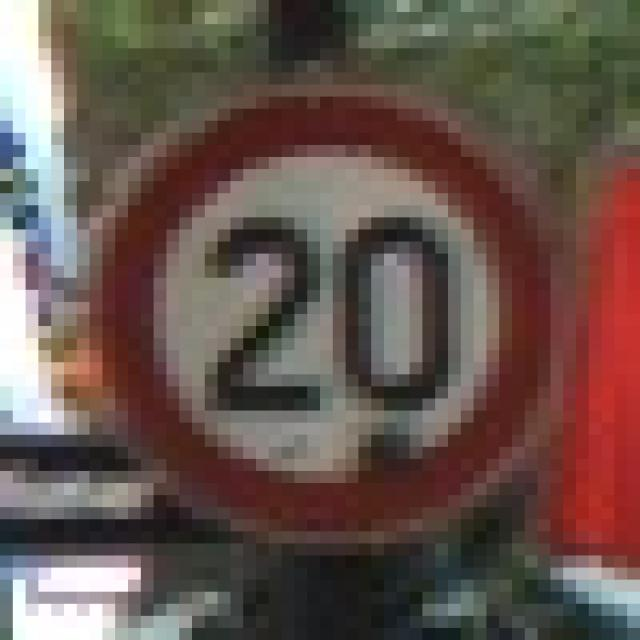Speed Limit -20-: (64, 72, 576, 580)
